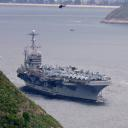Portanaves: (17, 28, 113, 104)
